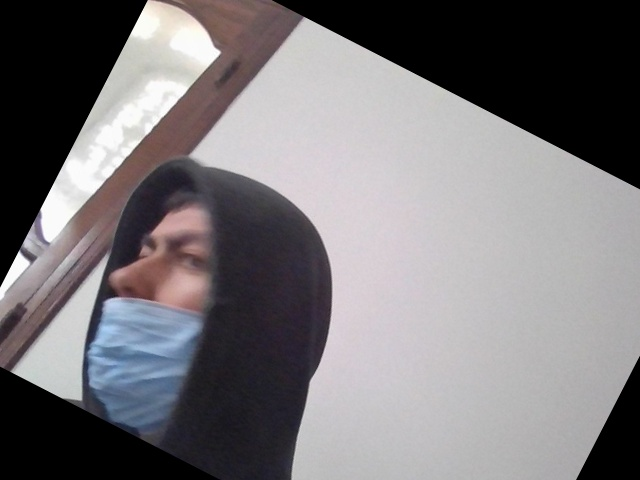mask_weared_incorrect: (78, 199, 221, 438)
